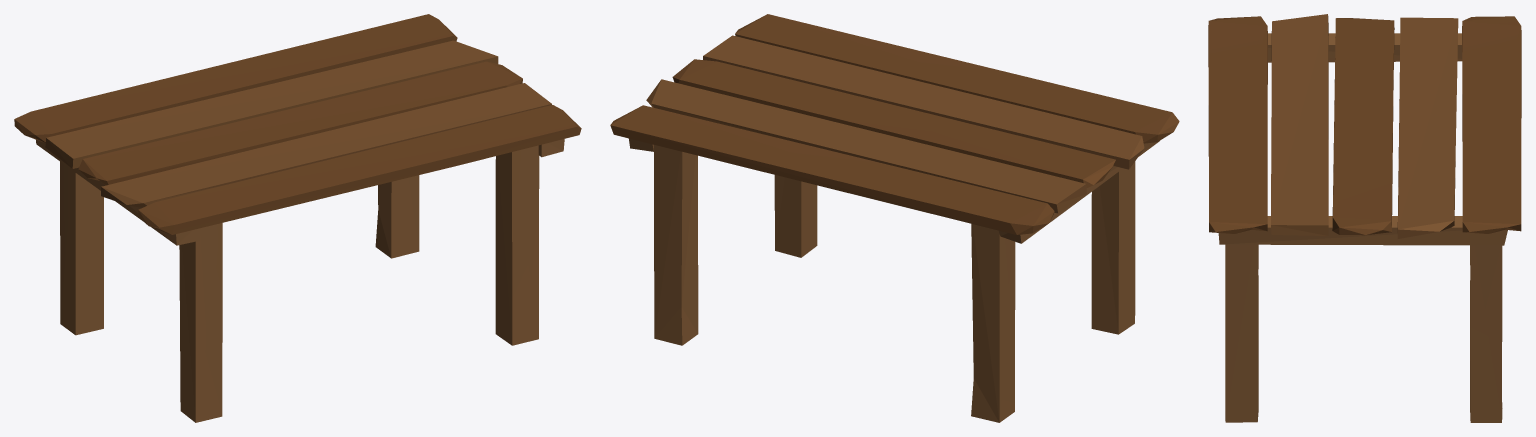
The model's file is Table_02.fbx.
The picture shows the model from 3 angles, left to right: view 1: azimuth 30°, elevation 25°; view 2: azimuth 150°, elevation 25°; view 3: azimuth 270°, elevation 25°; orthographic projection. The views are drawn at different scales.
Parts seen in each view (by area): view 1: Table_02; view 2: Table_02; view 3: Table_02.
Boxes of the visible parts, x1,y1,x2,y2 form: Table_02: (14, 14, 581, 422); Table_02: (610, 14, 1179, 422); Table_02: (1208, 14, 1521, 422).
Bounding box in the file's own units: 172 × 80.29 × 105.
